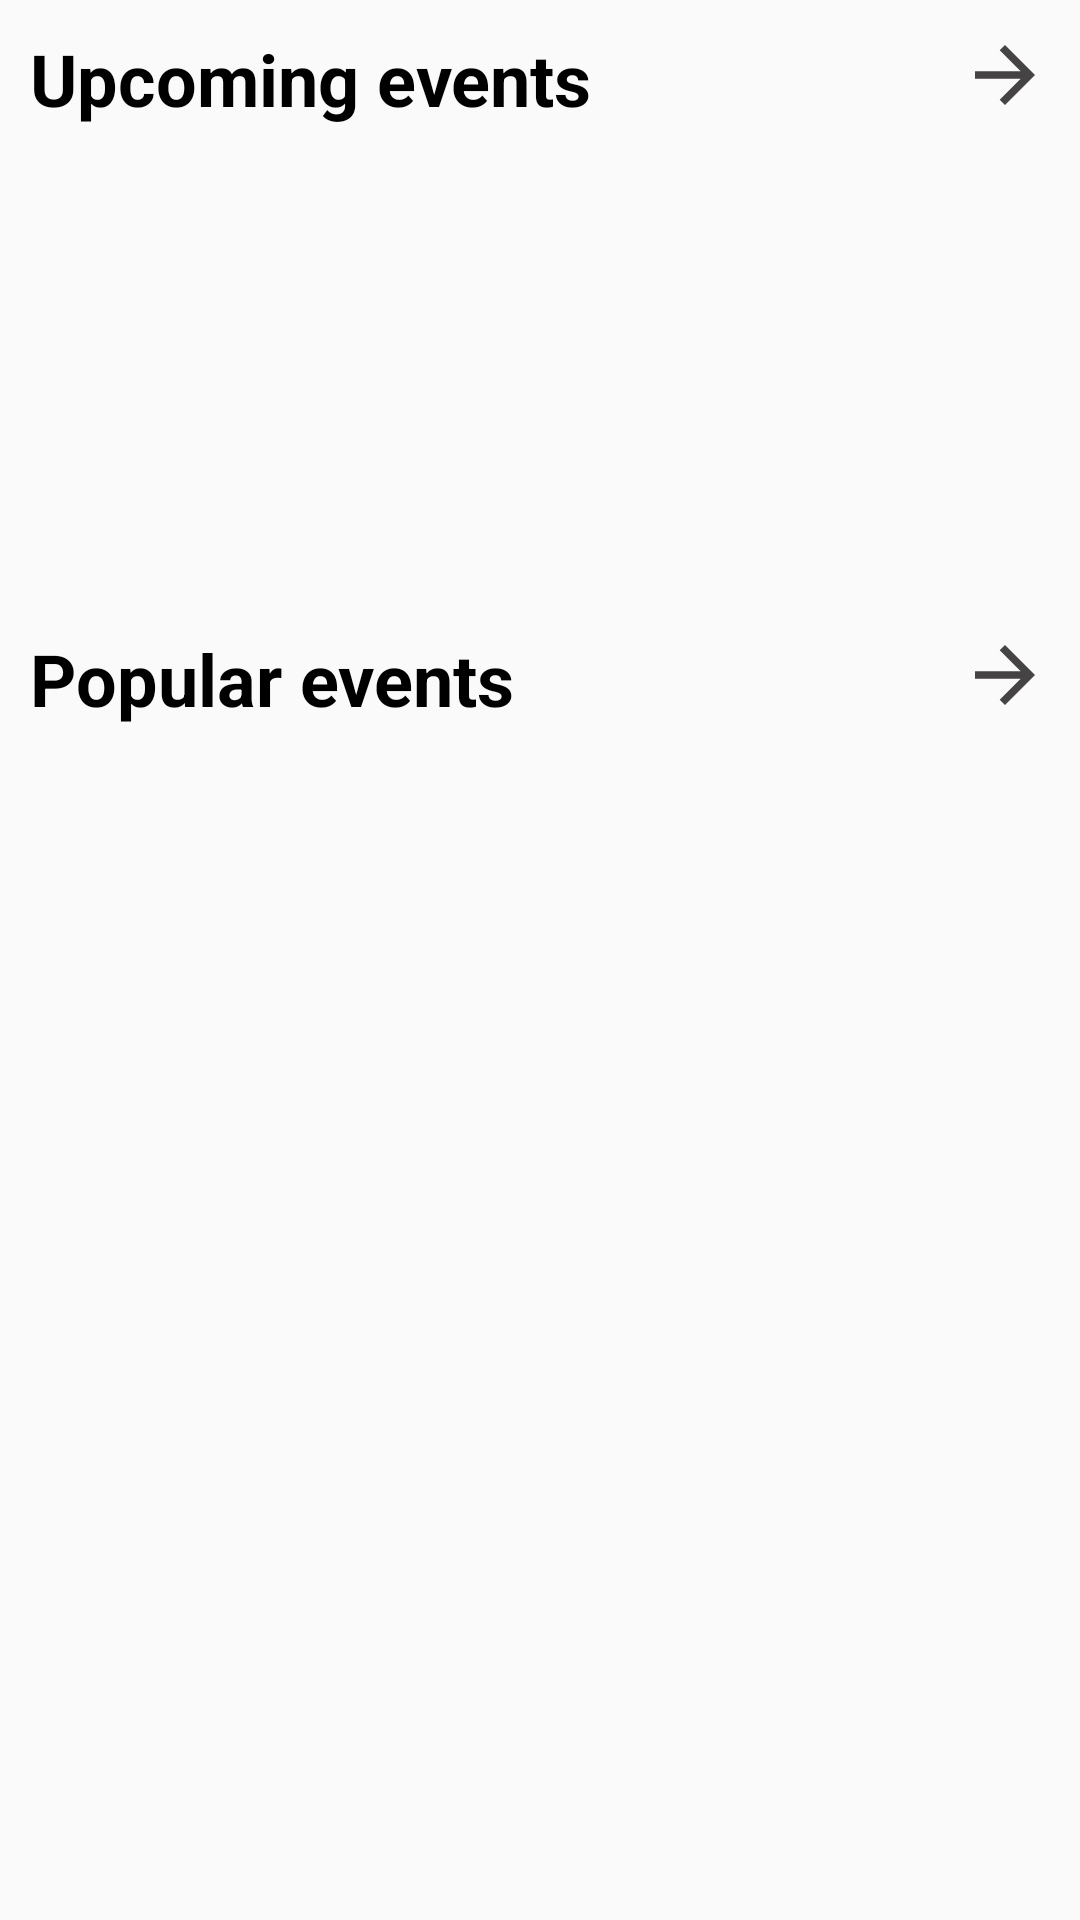

Screen size 1080*1920. Icon name, then its center in pixels as (x,y):
arrow forward: (1005,75), (1005,675)
